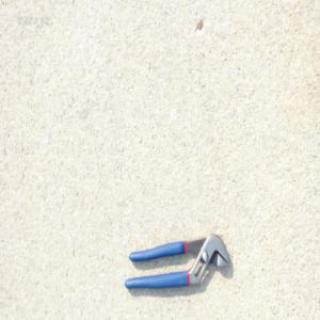Pliertrack_idkeyframe: (122, 230, 230, 289)
